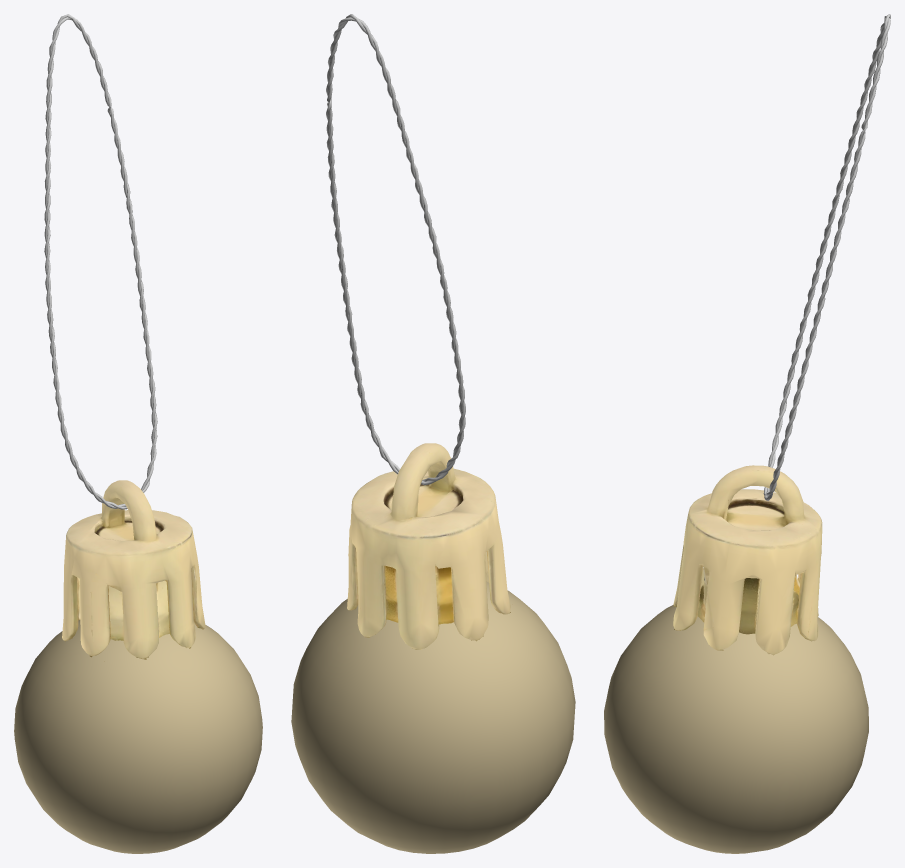
File: Golden_Orb.glb
3 views of the same model, side by side, from view 1: azimuth 30°, elevation 25°; view 2: azimuth 150°, elevation 25°; view 3: azimuth 270°, elevation 25° (orthographic). The views are drawn at different scales.
Parts seen in each view (by area): view 1: Sphere, GN Instance; view 2: Sphere, GN Instance; view 3: Sphere, GN Instance.
Boxes of the visible parts, <box> form: Sphere: <box>14,480,262,853</box>; GN Instance: <box>44,14,157,509</box>; Sphere: <box>291,443,575,853</box>; GN Instance: <box>326,14,465,485</box>; Sphere: <box>604,465,868,853</box>; GN Instance: <box>763,14,890,500</box>.
Size of the model in its own units: 0.0182 by 0.0625 by 0.0197.
Materials: 3 (1 with a texture image).
